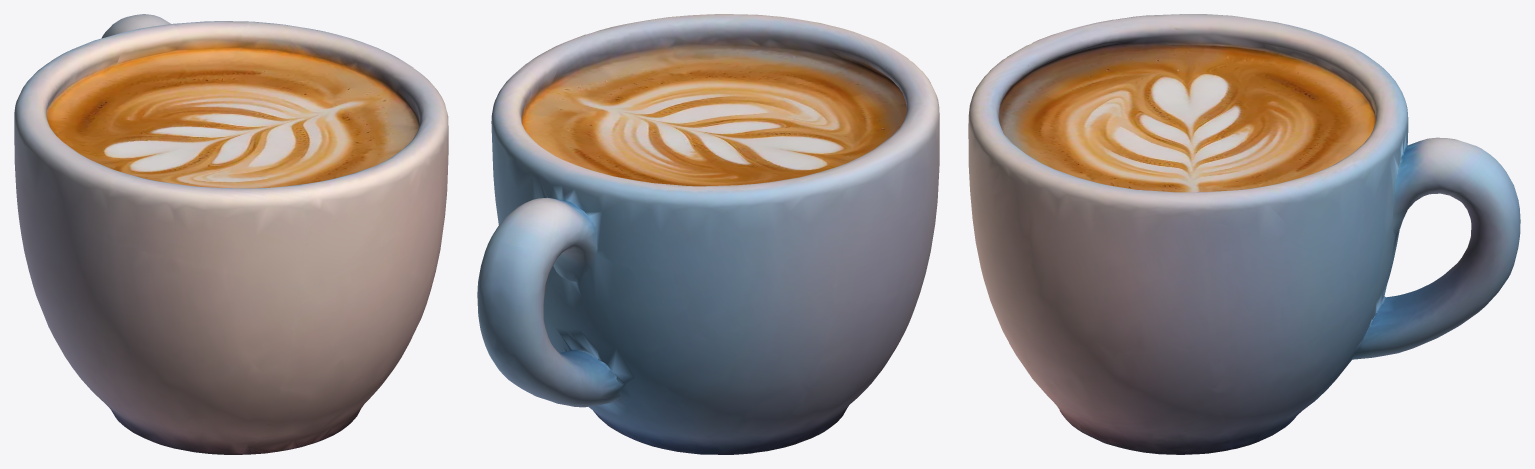
File: latte_art.glb
The picture shows the model from 3 angles, left to right: view 1: azimuth 30°, elevation 25°; view 2: azimuth 150°, elevation 25°; view 3: azimuth 270°, elevation 25°; orthographic projection. The views are drawn at different scales.
Visible parts, largest first — view 1: Object_4; view 2: Object_4; view 3: Object_4.
Boxes of the visible parts, x1=… form: Object_4: x1=14, y1=14, x2=448, y2=454; Object_4: x1=477, y1=14, x2=939, y2=454; Object_4: x1=968, y1=14, x2=1520, y2=454.
Size of the model in its own units: 0.7883 by 0.6028 by 0.9998.
Materials: 1 (1 with a texture image).
